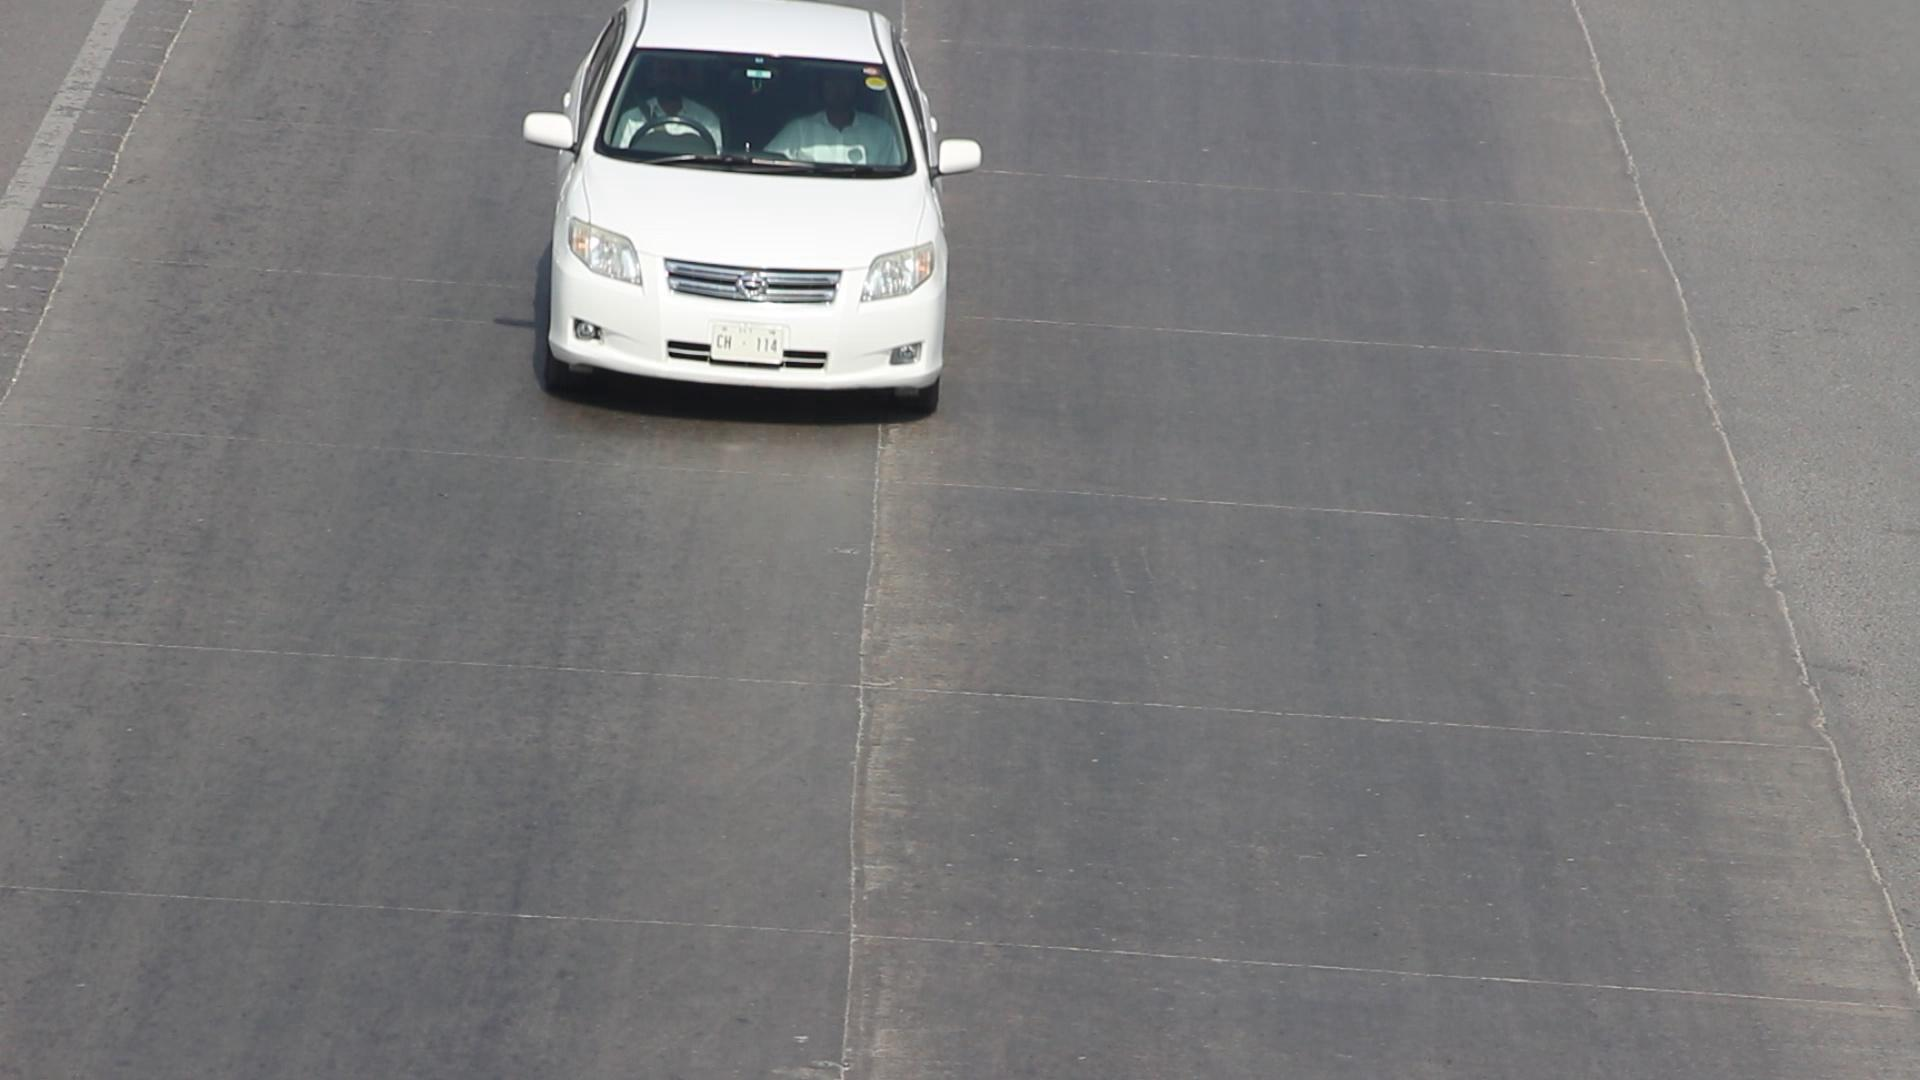windshield: (584, 26, 918, 190)
